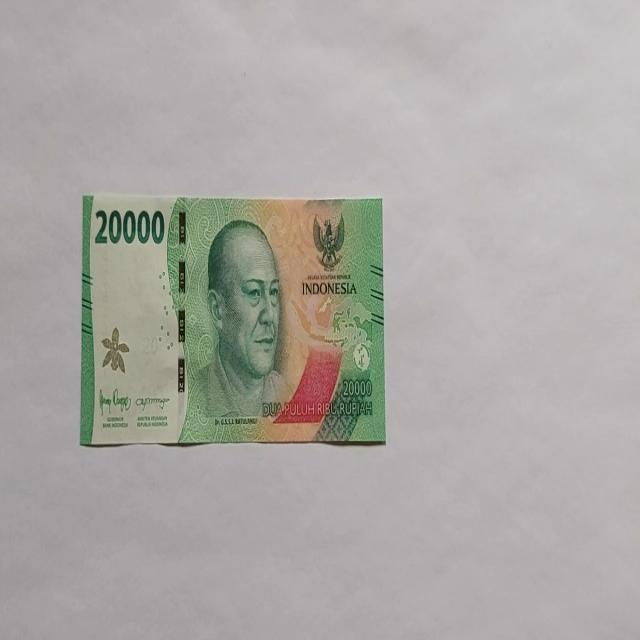dua puluh ribu rupiah: (80, 192, 386, 448), (178, 217, 296, 443)
